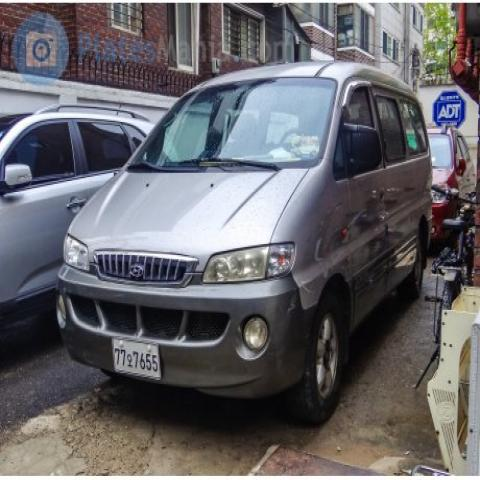LP: (102, 333, 167, 384)
